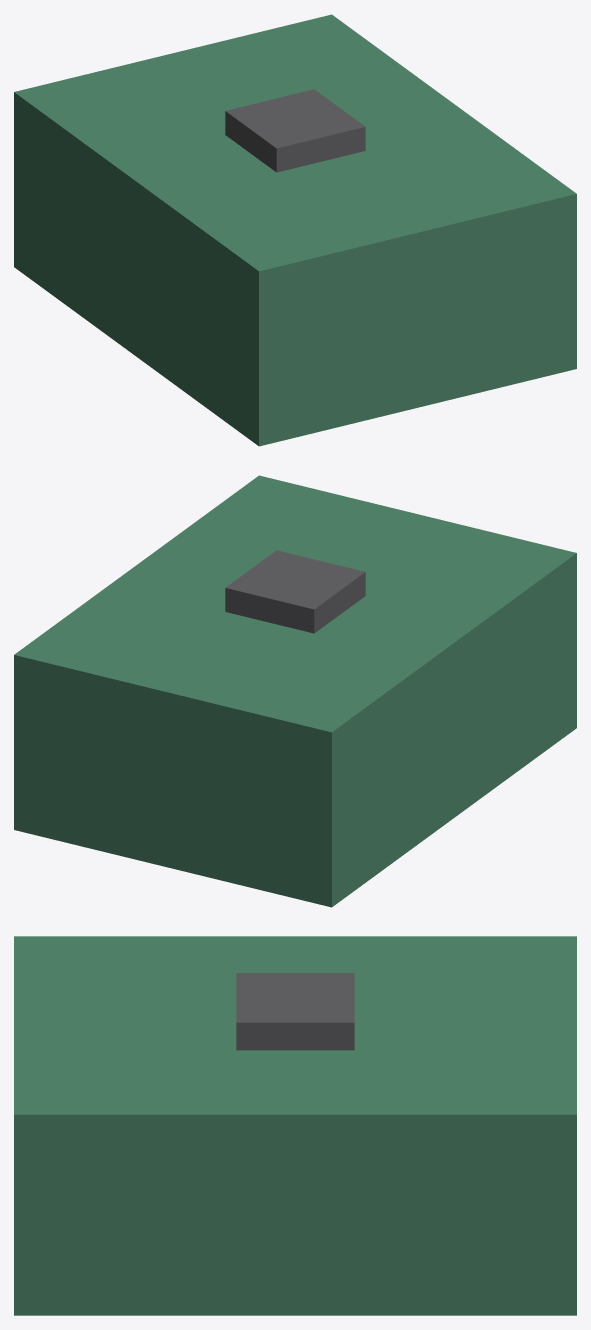
Rendered from tmc2209.glb.
3 renders of one model, top to bottom at view 1: azimuth 30°, elevation 25°; view 2: azimuth 150°, elevation 25°; view 3: azimuth 270°, elevation 25°, orthographic. The views are drawn at different scales.
Parts seen in each view (by area): view 1: tmc2209-pcb, tmc2209-ic; view 2: tmc2209-pcb, tmc2209-ic; view 3: tmc2209-pcb, tmc2209-ic.
Boxes of the visible parts, x1,y1,x2,y2 form: tmc2209-pcb: (14, 14, 576, 446); tmc2209-ic: (225, 89, 365, 172); tmc2209-pcb: (14, 475, 576, 907); tmc2209-ic: (225, 550, 365, 633); tmc2209-pcb: (14, 936, 576, 1315); tmc2209-ic: (236, 973, 354, 1050).
Size of the model in its own units: 0.0152 by 0.0091 by 0.0203.
